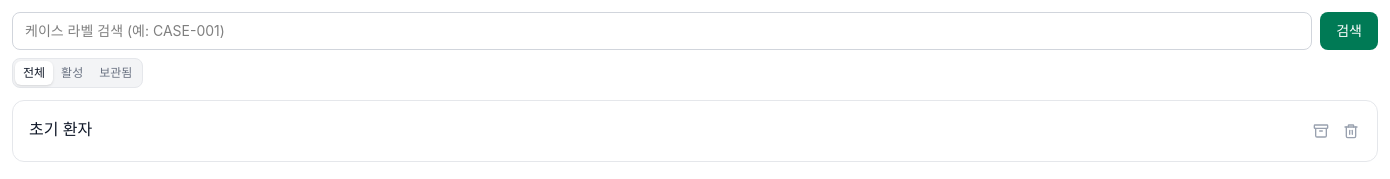
환자 목록 › 기준 10: caseLabel을 렌더하고 검색 제출 시 query 파라미터로 재조회한다
The width and height of the screenshot is (1390, 179).
expect the button "초기 환자" is shown: met, box [13, 101, 1307, 161]
Type "김환자" into the field named "환자 검색" at [662, 31], box [12, 12, 1312, 50]
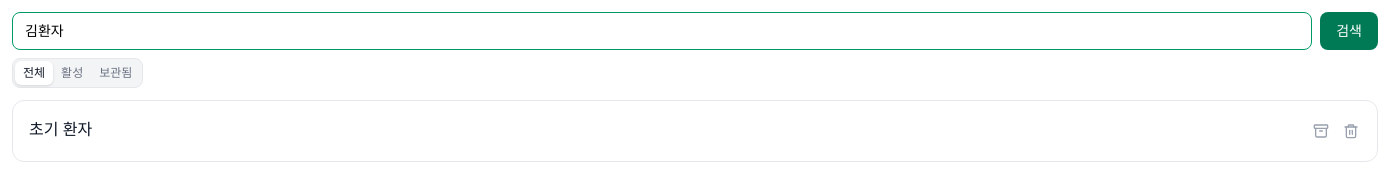
Click the button "검색" at [1349, 31], box [1320, 12, 1378, 50]
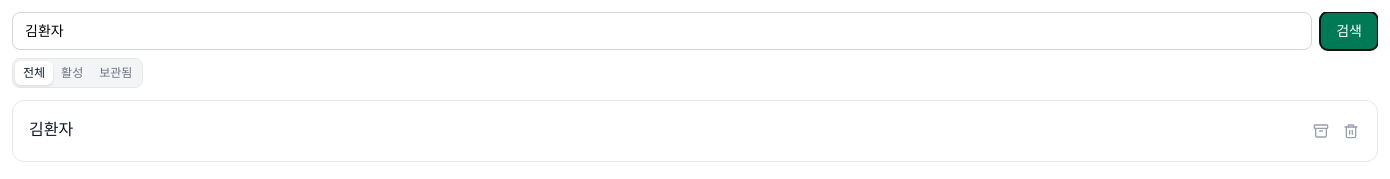
expect the button "김환자" is shown: met, box [13, 101, 1307, 161]
